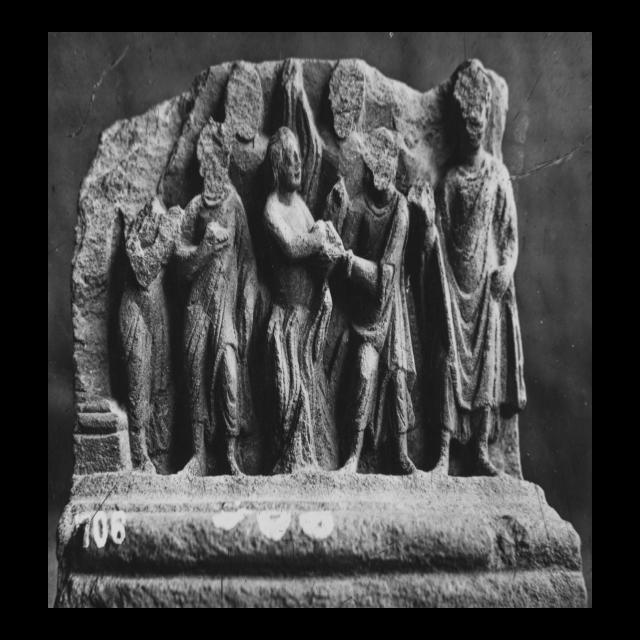buddha-standing: (429, 60, 526, 476), (420, 196, 431, 213)
